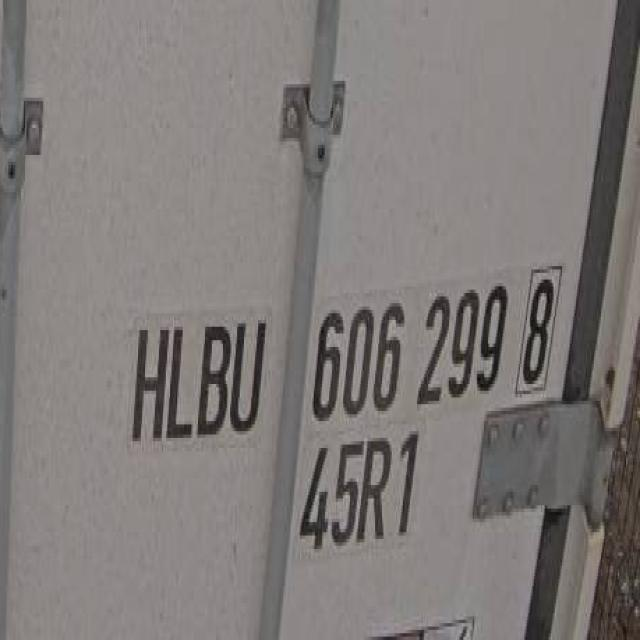dv: (516, 262, 560, 404)
owner: (128, 297, 269, 460)
serial: (305, 274, 509, 433)
size: (297, 433, 425, 556)
